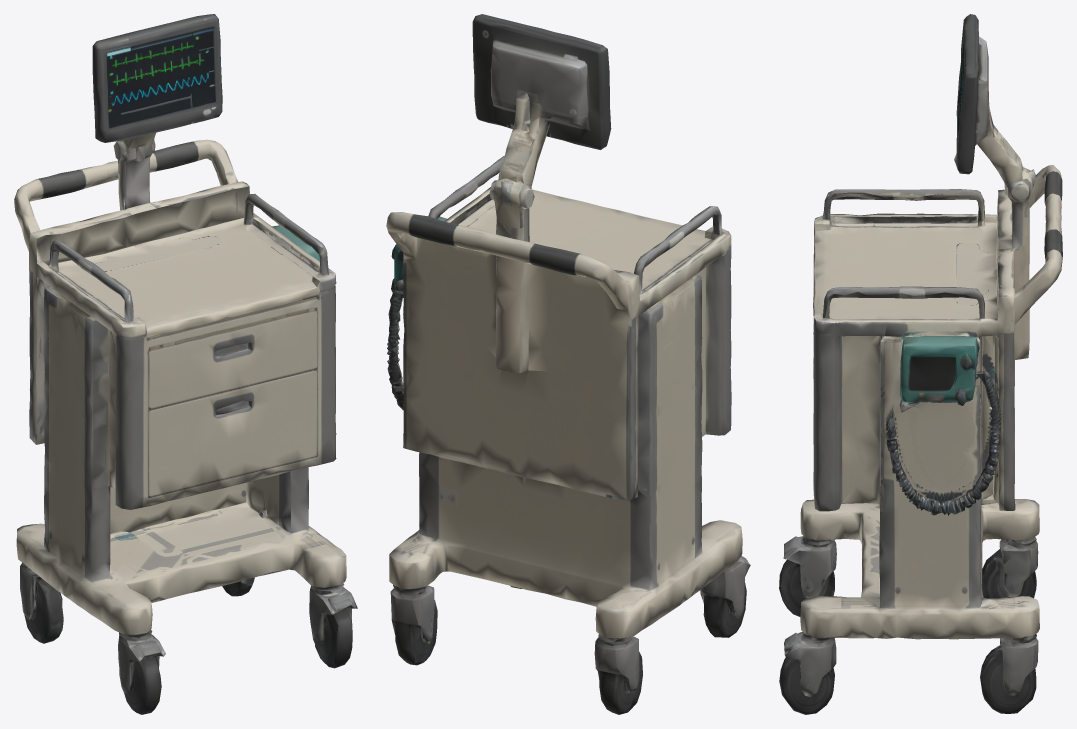
The model's file is SD_DiagnosticCart.fbx.
The picture shows the model from 3 angles, left to right: view 1: azimuth 30°, elevation 25°; view 2: azimuth 150°, elevation 25°; view 3: azimuth 270°, elevation 25°; orthographic projection. The views are drawn at different scales.
Parts seen in each view (by area): view 1: SD_DiagnosticCart_LOD0; view 2: SD_DiagnosticCart_LOD0; view 3: SD_DiagnosticCart_LOD0.
Boxes of the visible parts, x1,y1,x2,y2 form: SD_DiagnosticCart_LOD0: [14, 14, 357, 714]; SD_DiagnosticCart_LOD0: [386, 14, 750, 714]; SD_DiagnosticCart_LOD0: [779, 14, 1062, 714].
Size of what is drawn, in the model's own units: 65 by 145 by 60.
